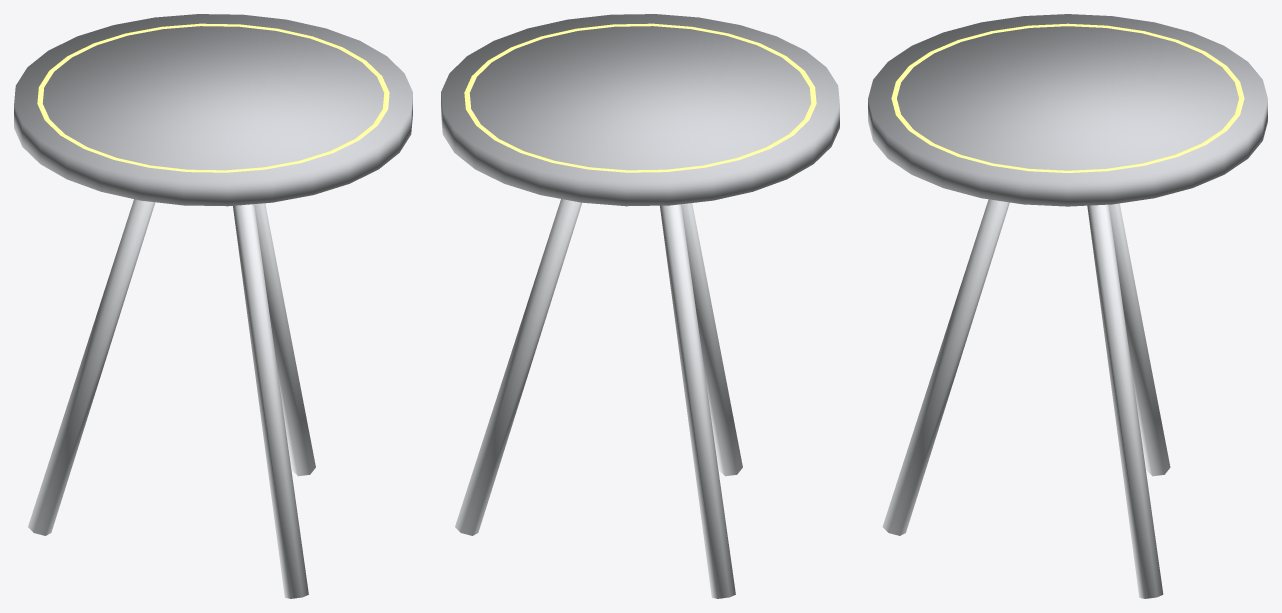
Rendered from side_table_tripod.glb.
3 renders of one model, left to right at view 1: azimuth 30°, elevation 25°; view 2: azimuth 150°, elevation 25°; view 3: azimuth 270°, elevation 25°, orthographic.
Parts seen in each view (by area): view 1: GD_side_table_tripod__m1, GD_side_table_tripod__m0, GD_side_table_tripod__m2; view 2: GD_side_table_tripod__m1, GD_side_table_tripod__m0, GD_side_table_tripod__m2; view 3: GD_side_table_tripod__m1, GD_side_table_tripod__m0, GD_side_table_tripod__m2.
Boxes of the visible parts, x1=… form: GD_side_table_tripod__m1: x1=14, y1=14, x2=412, y2=206; GD_side_table_tripod__m0: x1=28, y1=199, x2=315, y2=598; GD_side_table_tripod__m2: x1=37, y1=23, x2=389, y2=172; GD_side_table_tripod__m1: x1=441, y1=14, x2=839, y2=206; GD_side_table_tripod__m0: x1=455, y1=199, x2=742, y2=598; GD_side_table_tripod__m2: x1=464, y1=23, x2=816, y2=172; GD_side_table_tripod__m1: x1=868, y1=14, x2=1267, y2=206; GD_side_table_tripod__m0: x1=882, y1=199, x2=1170, y2=598; GD_side_table_tripod__m2: x1=891, y1=23, x2=1244, y2=172.
Bounding box in the file's own units: 0.46 × 0.5541 × 0.46.
